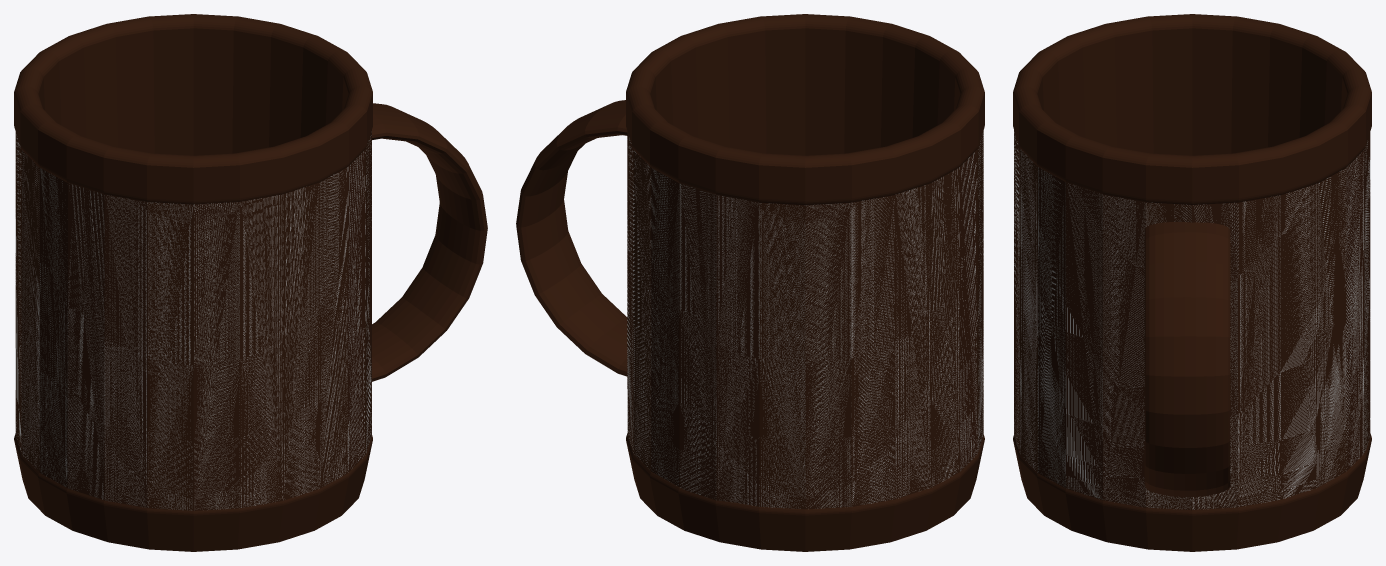
3 views of the same model, side by side, from view 1: azimuth 30°, elevation 25°; view 2: azimuth 150°, elevation 25°; view 3: azimuth 270°, elevation 25° (orthographic).
Parts seen in each view (by area): view 1: mesh2.001_mesh2-geometry, mesh1.001_mesh1-geometry; view 2: mesh2.001_mesh2-geometry, mesh1.001_mesh1-geometry; view 3: mesh2.001_mesh2-geometry, mesh1.001_mesh1-geometry.
Part boxes in pixels (box(x1,y1,x2,y2)): mesh2.001_mesh2-geometry: box(14, 14, 372, 551); mesh1.001_mesh1-geometry: box(372, 103, 487, 381); mesh2.001_mesh2-geometry: box(626, 14, 984, 551); mesh1.001_mesh1-geometry: box(516, 100, 627, 376); mesh2.001_mesh2-geometry: box(1013, 14, 1371, 551); mesh1.001_mesh1-geometry: box(1144, 222, 1230, 496).
Size of the model in its own units: 0.6649 by 0.5756 by 0.4761.
